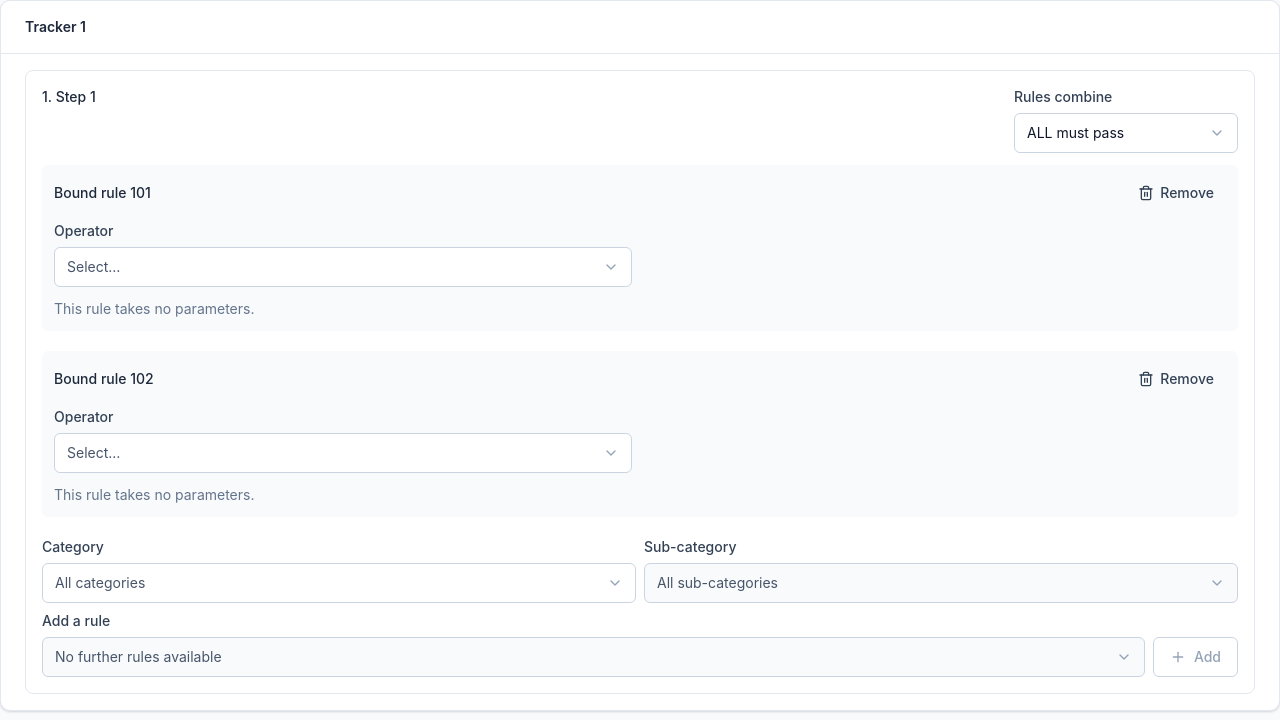
Test case: ComponentRulesStep — operator + rules-combine (T-148) › TC-8b: one binding’s operator choice never reaches another binding on the same component
What coordinates should you click on to do the following:
click the dropdown named "operator"
I would click on:
 (94, 266)
Its box is [54,247,632,287].
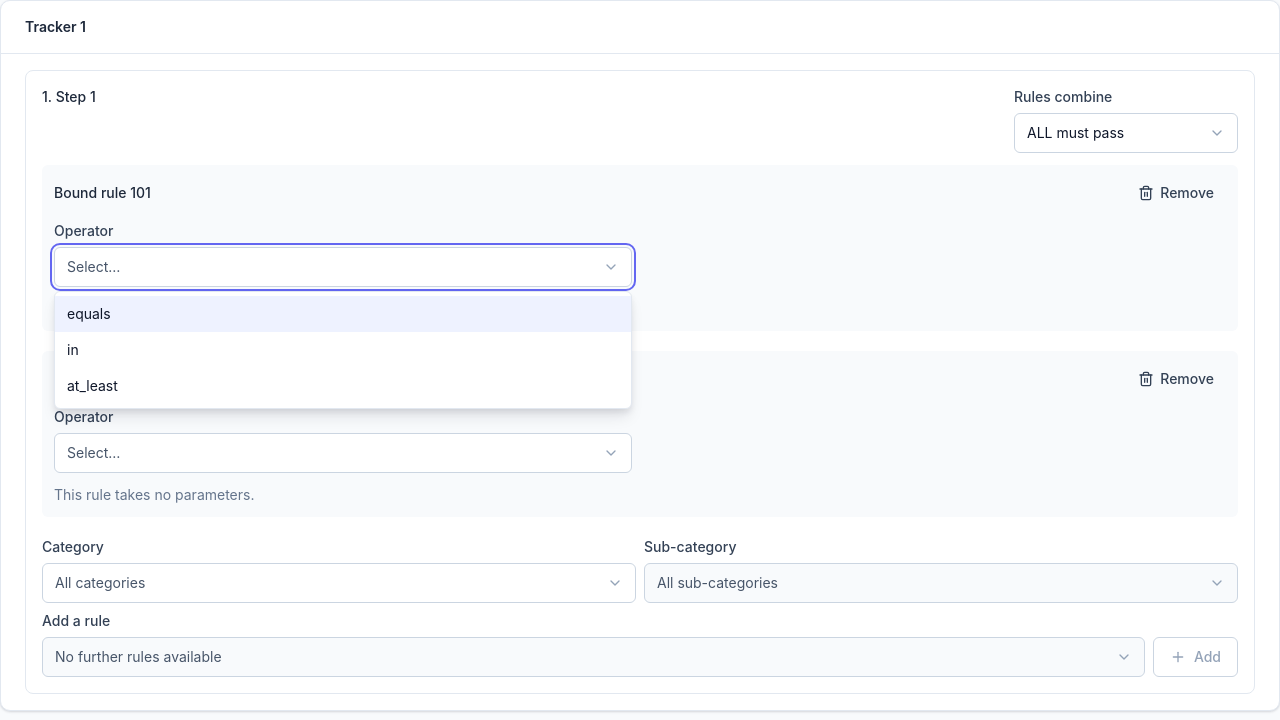
What coordinates should you click on to do the following:
click the option "at_least"
I would click on:
 (92, 386)
Its box is [67,377,118,394].
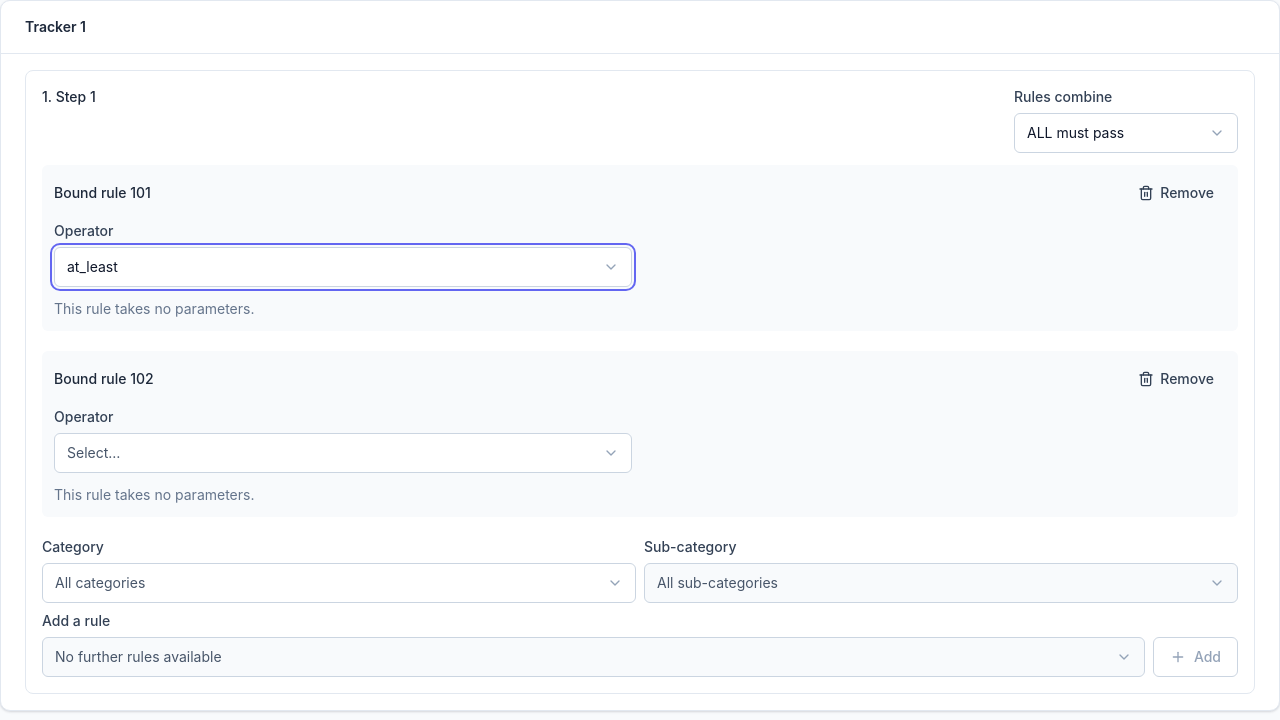
Check: the dropdown named "operator" reads "Select…", box [54,433,632,473]
Check: the dropdown named "operator" reads "at_least", box [54,247,632,287]
